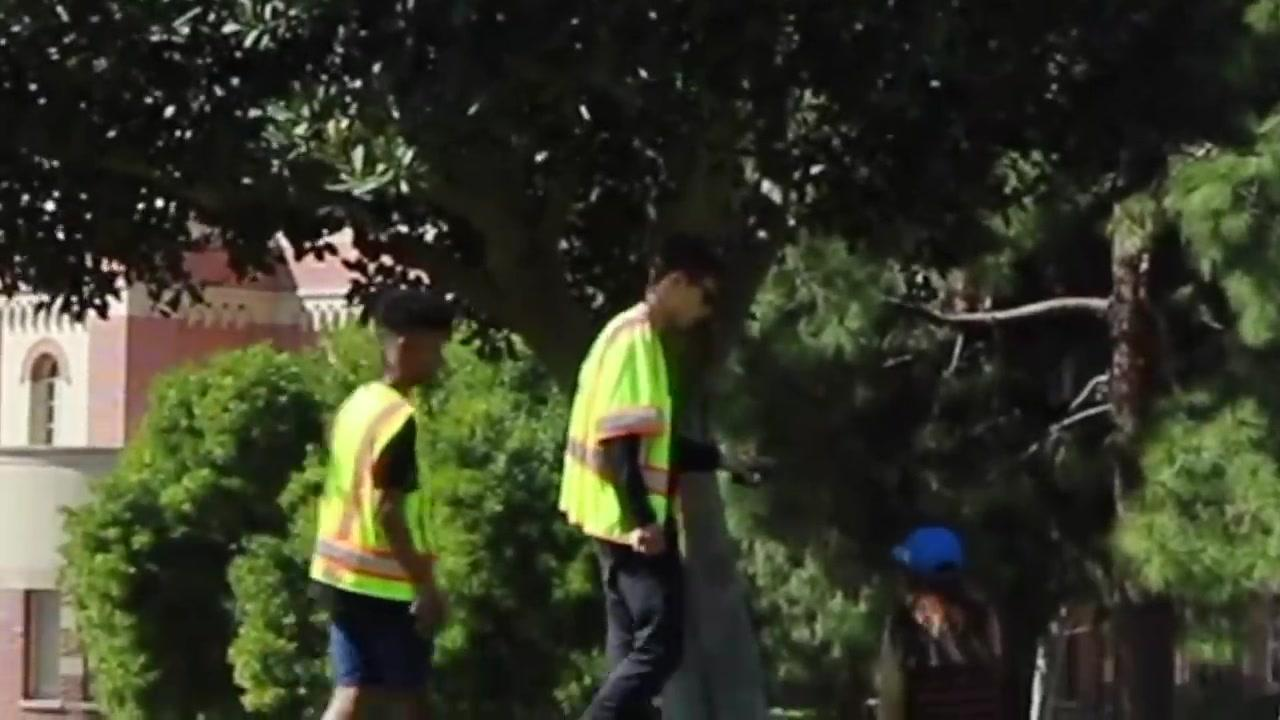Glass: (303, 379, 426, 608), (560, 306, 675, 543)
